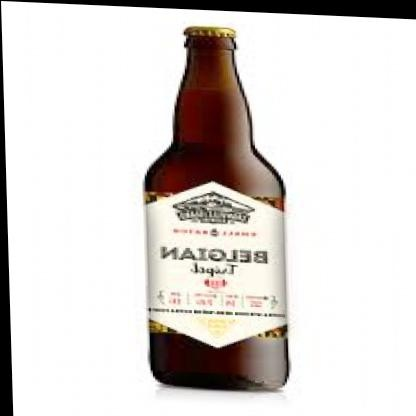trash: (145, 27, 287, 388)
